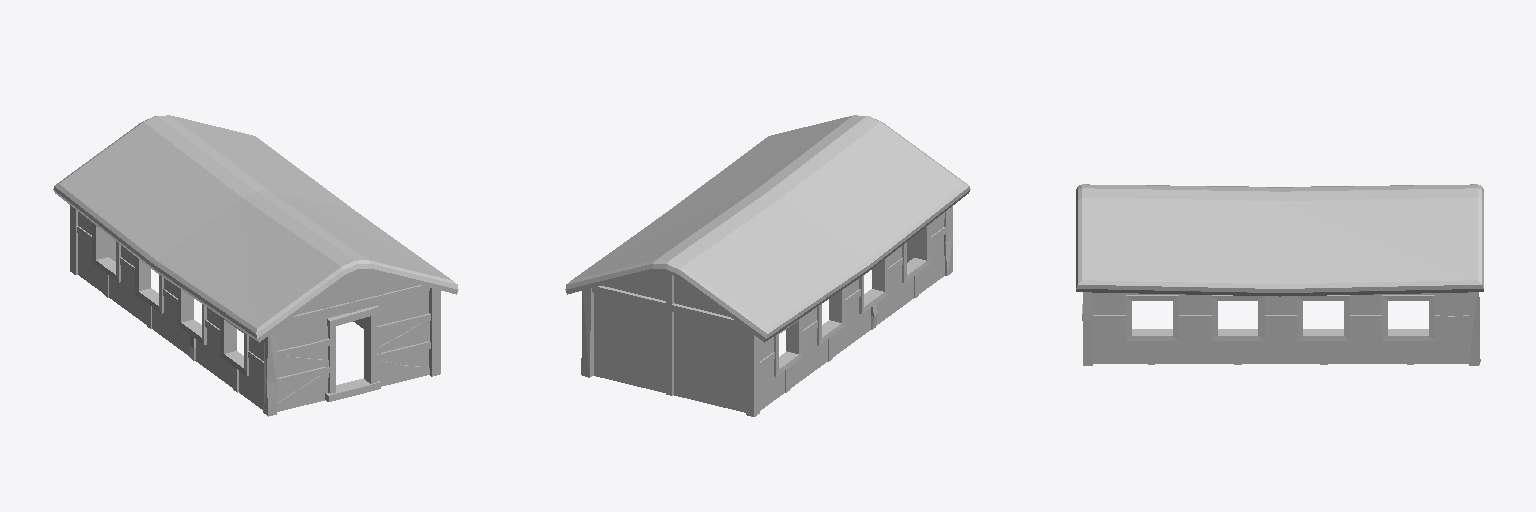
File: brewer.obj
3 views of the same model, side by side, from view 1: azimuth 30°, elevation 25°; view 2: azimuth 150°, elevation 25°; view 3: azimuth 270°, elevation 25° (orthographic).
Visible parts, largest first — view 1: Medieval_barn_Куб.001; view 2: Medieval_barn_Куб.001; view 3: Medieval_barn_Куб.001.
Part boxes in pixels (left/top/right/bottom): Medieval_barn_Куб.001: left=53, top=115, right=458, bottom=416; Medieval_barn_Куб.001: left=565, top=115, right=970, bottom=416; Medieval_barn_Куб.001: left=1076, top=184, right=1483, bottom=365.
Size of the model in its own units: 6.65 by 4.18 by 11.43.